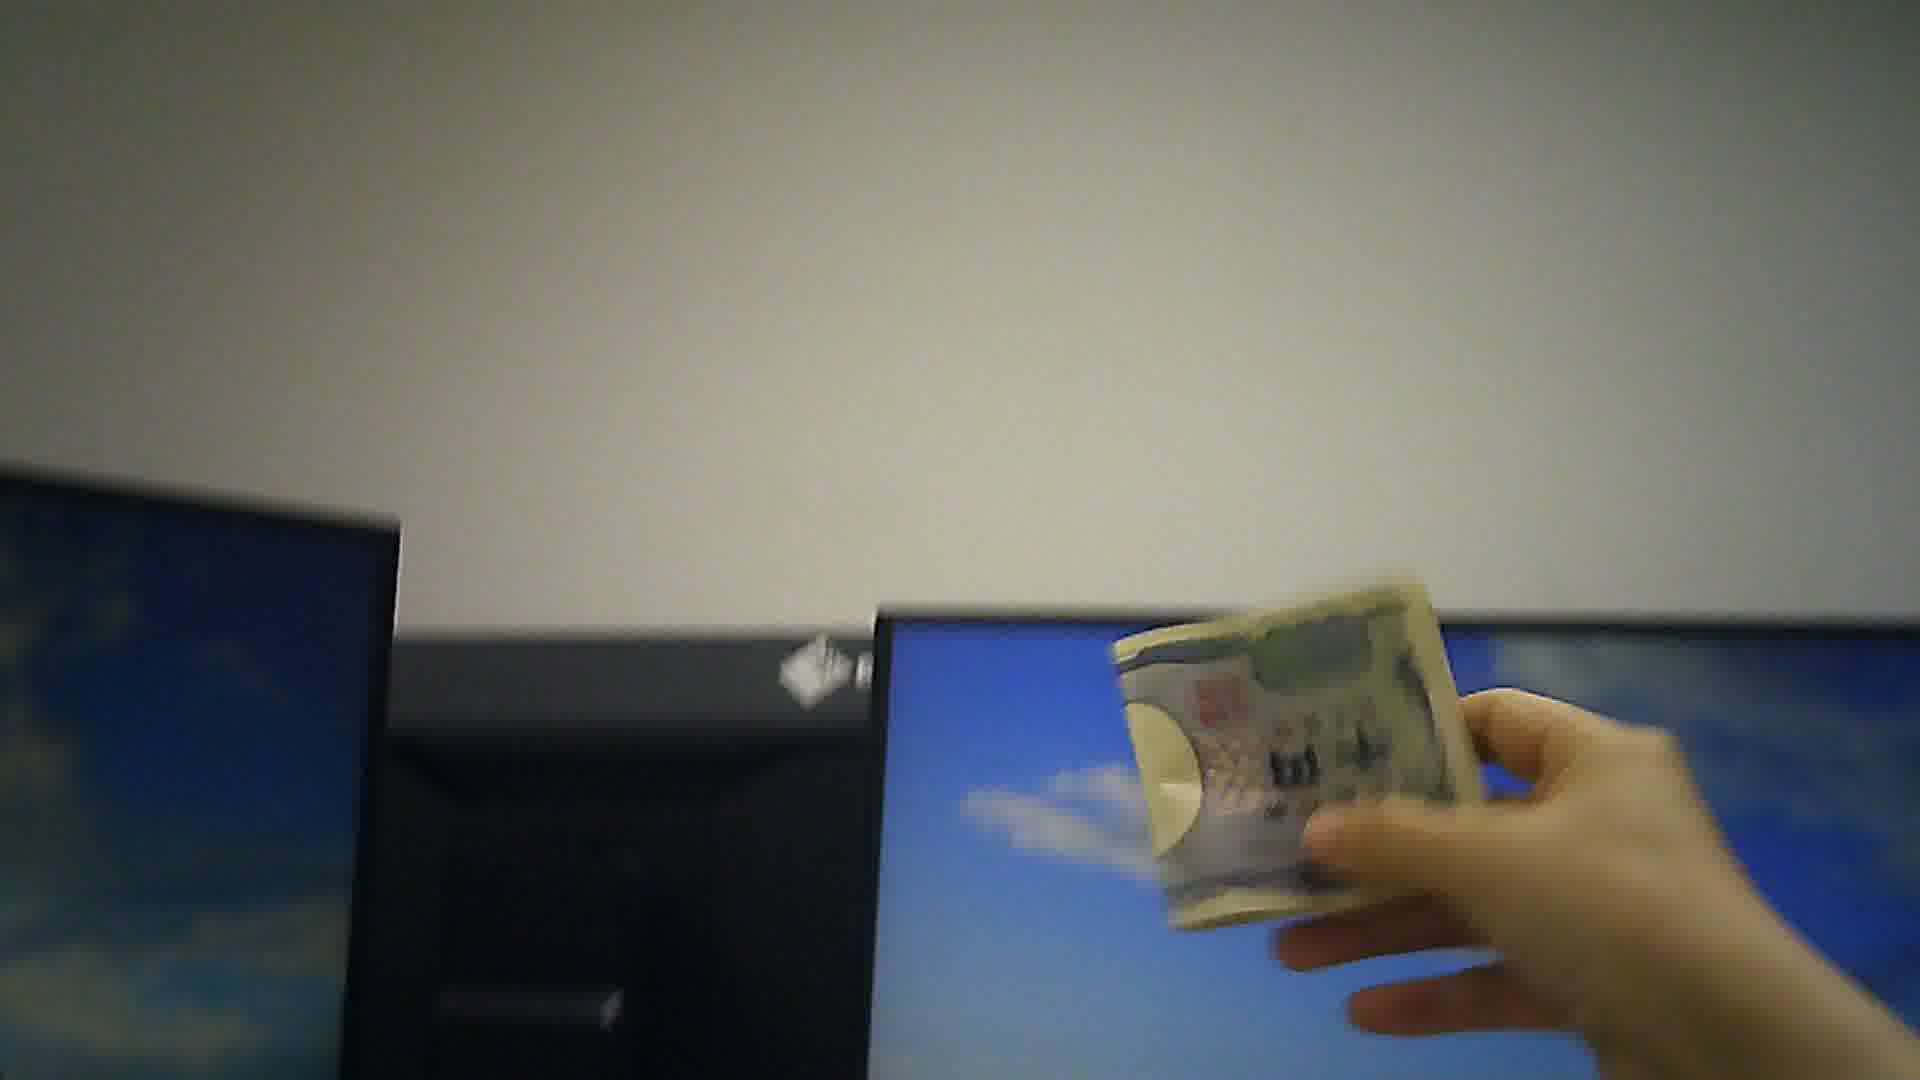1,000 Yen: (1116, 576, 1505, 951)
